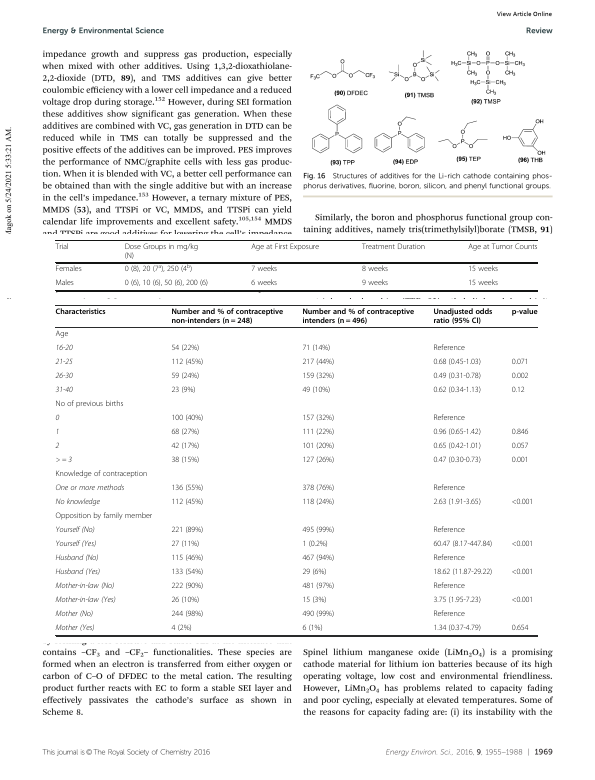borderless: (54, 304, 537, 635), (54, 239, 537, 290)
cell: (170, 308, 284, 326), (301, 308, 415, 326), (124, 243, 199, 261), (432, 308, 493, 326), (55, 512, 153, 522), (55, 470, 148, 480), (124, 279, 209, 289), (124, 263, 193, 275), (55, 400, 124, 410), (467, 243, 538, 252), (250, 243, 320, 252), (55, 484, 125, 493), (432, 540, 493, 550), (432, 568, 493, 578), (361, 243, 426, 252), (55, 596, 117, 605), (55, 582, 115, 591), (432, 358, 482, 368), (432, 372, 482, 382), (432, 386, 482, 396), (432, 428, 482, 438), (432, 442, 482, 452), (432, 456, 482, 466), (432, 498, 482, 508), (432, 596, 482, 606), (432, 624, 482, 634), (55, 308, 107, 317), (55, 498, 101, 508), (55, 568, 101, 577), (55, 554, 99, 563), (55, 540, 97, 549), (55, 526, 96, 535), (55, 624, 95, 633), (55, 610, 94, 619), (432, 344, 466, 354), (170, 358, 204, 368), (301, 358, 335, 368), (301, 372, 335, 382), (170, 414, 204, 424), (301, 414, 335, 424), (432, 414, 466, 424), (301, 428, 335, 438), (301, 442, 335, 452), (301, 456, 335, 466), (170, 484, 204, 494), (301, 484, 335, 494), (432, 484, 466, 494), (170, 498, 204, 508), (301, 498, 335, 508), (170, 526, 204, 536), (301, 526, 335, 536), (432, 526, 466, 536), (170, 554, 204, 564), (301, 554, 335, 564), (432, 554, 466, 564), (170, 568, 204, 578), (170, 582, 204, 592), (301, 582, 335, 592), (432, 582, 466, 592), (170, 610, 204, 620), (301, 610, 335, 620), (432, 610, 466, 620), (467, 265, 499, 275), (467, 279, 499, 289), (170, 344, 200, 354), (301, 344, 331, 354), (170, 372, 200, 382), (301, 386, 331, 396), (170, 428, 200, 438), (170, 442, 200, 452), (170, 456, 200, 466), (170, 540, 200, 550), (170, 596, 200, 606), (250, 265, 278, 275), (361, 265, 389, 275), (250, 279, 278, 289), (361, 279, 389, 289), (301, 540, 329, 550), (55, 265, 82, 275), (170, 386, 196, 396), (301, 568, 327, 578), (301, 596, 327, 606), (511, 308, 538, 317), (511, 498, 534, 508), (511, 540, 534, 550), (511, 568, 534, 578), (511, 596, 534, 606), (170, 624, 192, 634), (301, 624, 323, 634), (54, 279, 75, 289), (511, 358, 529, 368), (511, 372, 529, 382), (511, 428, 529, 438), (511, 442, 529, 452), (511, 456, 529, 466), (511, 624, 529, 634), (55, 344, 73, 353), (55, 358, 73, 367), (55, 372, 73, 381), (55, 386, 73, 395), (55, 456, 73, 465), (511, 386, 526, 396), (55, 330, 69, 340), (55, 243, 69, 252), (55, 414, 60, 423), (55, 428, 60, 437), (55, 442, 60, 451)
